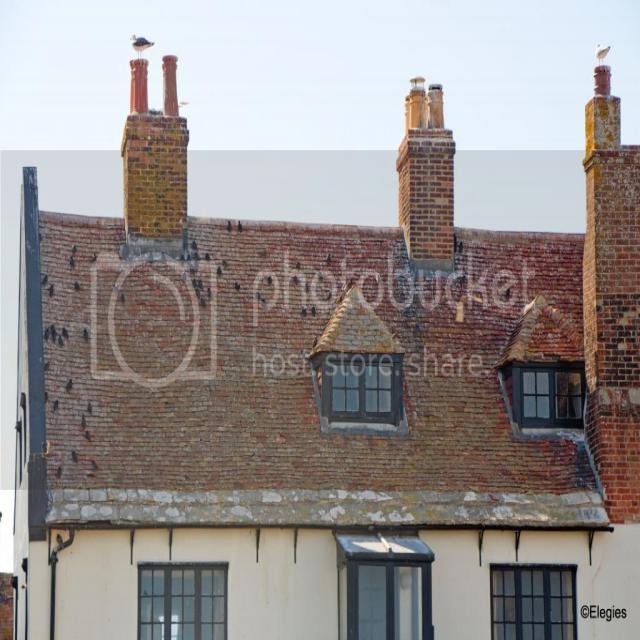bird: (129, 32, 156, 59), (595, 42, 611, 64)
